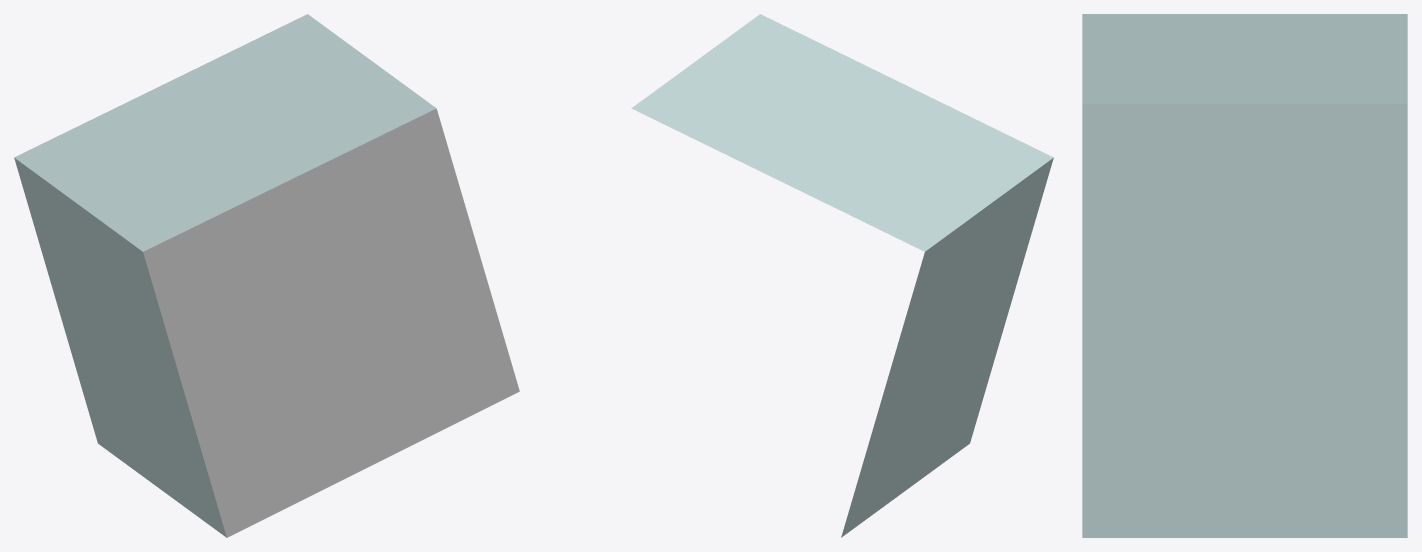
3 renders of one model, left to right at view 1: azimuth 30°, elevation 25°; view 2: azimuth 150°, elevation 25°; view 3: azimuth 270°, elevation 25°, orthographic. The views are drawn at different scales.
Parts seen in each view (by area): view 1: 0_2_2_3_2_3_1_2; view 2: 0_2_2_3_2_3_1_2; view 3: 0_2_2_3_2_3_1_2.
Part boxes in pixels (x1=…): 0_2_2_3_2_3_1_2: x1=14, y1=14, x2=519, y2=537; 0_2_2_3_2_3_1_2: x1=631, y1=14, x2=1053, y2=537; 0_2_2_3_2_3_1_2: x1=1082, y1=14, x2=1407, y2=537.
Size of the model in its own units: 5.06 by 4.85 by 3.
